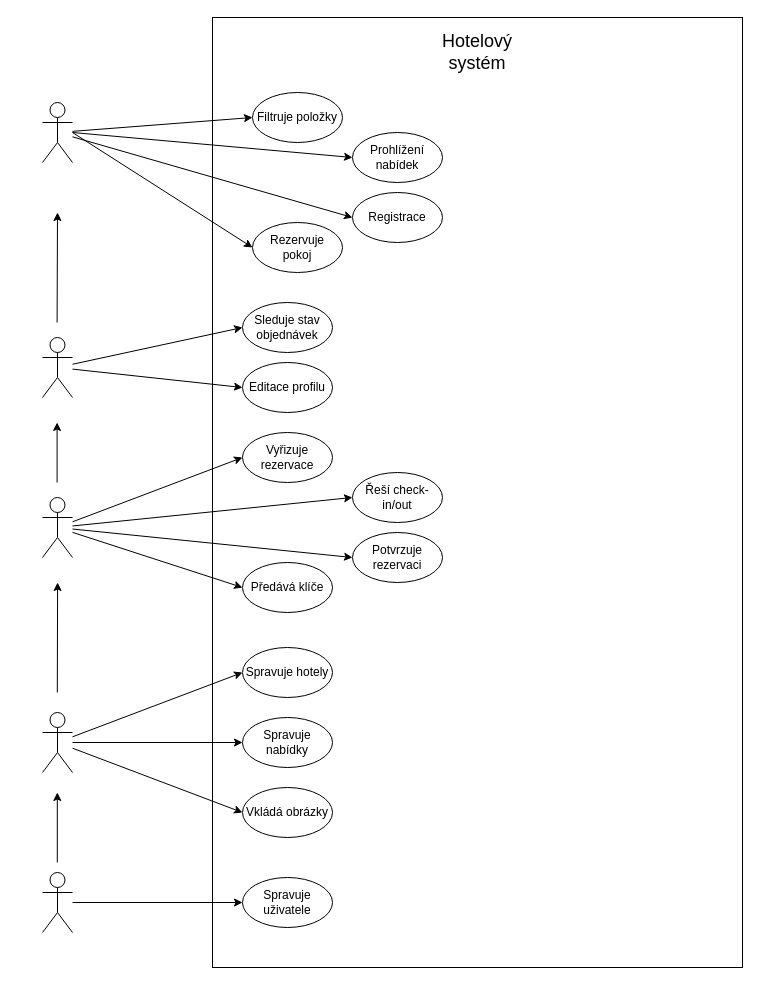
The diagram is 760 pixels wide and 985 high, and some of its shapes have lost their labels. Here are the shapes that lost their labels. From the top down, the box of each, then its label:
(42, 102, 72, 162): Neregistrovaný uživatel
(42, 336, 72, 398): Zákazník
(42, 496, 72, 558): Recepční
(42, 712, 72, 772): Vlastník
(42, 872, 72, 932): Admin
